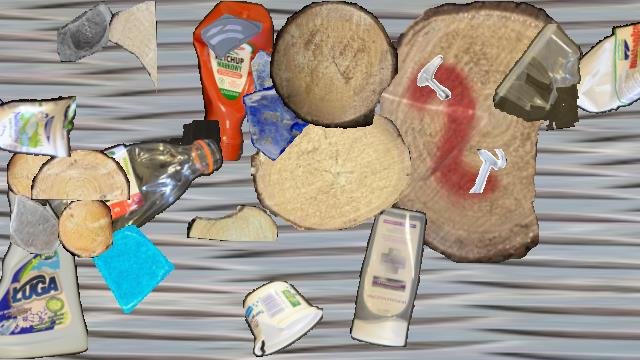glass: (91, 225, 179, 313), (241, 79, 325, 163), (201, 1, 263, 63), (57, 1, 117, 61), (10, 195, 68, 253), (251, 46, 307, 102), (0, 96, 11, 152)
metal: (411, 52, 463, 104), (464, 149, 508, 193), (0, 242, 15, 298)
plastic: (45, 120, 223, 238), (0, 169, 87, 359), (193, 1, 273, 161), (349, 206, 427, 346), (552, 1, 640, 121), (491, 24, 583, 130), (243, 281, 323, 357), (0, 92, 76, 156)
wood: (380, 1, 584, 263), (251, 109, 411, 229), (270, 1, 398, 129), (31, 150, 129, 200), (109, 1, 157, 97), (187, 205, 277, 241), (58, 200, 112, 258), (7, 146, 57, 206)
